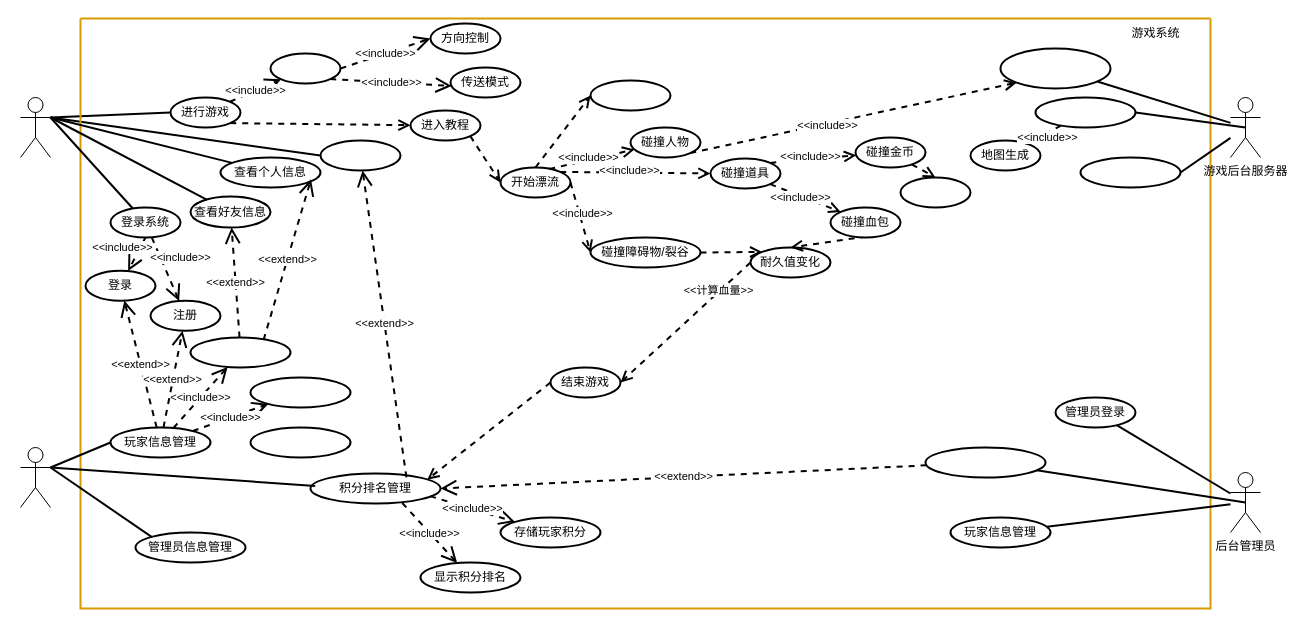
This 1305x626 diagram has some shape labels left out. The shapes that lost their labels are listed below. From the top down, each one's box as (x1, y1, x2, y2) in pixels, then its label:
(269, 52, 341, 84): 控制船只
(999, 47, 1111, 89): 触发buff/debuff 并生成随机数值
(589, 79, 671, 111): 通过传送门
(1034, 96, 1136, 128): 处理游戏逻辑
(20, 96, 50, 158): 用户
(319, 139, 401, 171): 查看排行榜
(1079, 156, 1181, 188): 接收游戏请求
(899, 176, 971, 208): 积分变化
(189, 336, 291, 368): 显示玩家信息
(249, 376, 351, 408): 存储玩家信息
(249, 426, 351, 458): 新建玩家信息
(924, 446, 1046, 478): 玩家积分排名管理
(20, 446, 50, 508): 数据库
